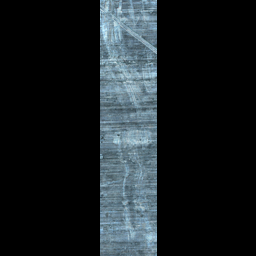d: (102, 1, 156, 57), (122, 129, 148, 243), (116, 58, 156, 116), (109, 126, 150, 153)
